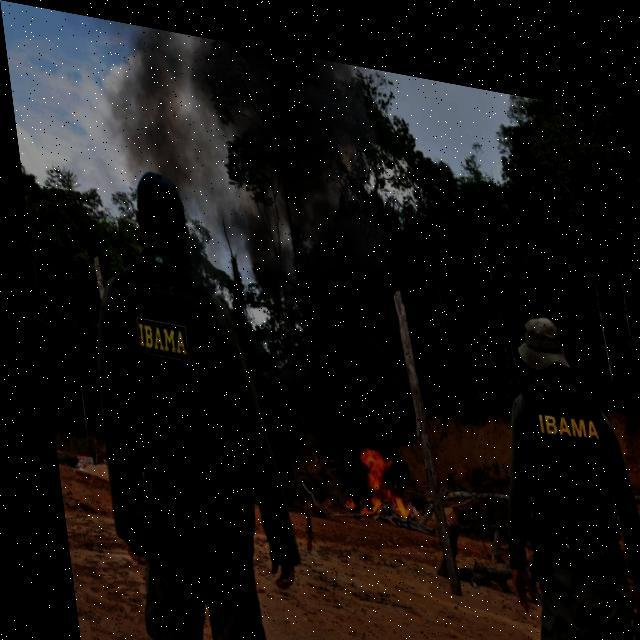Fire: (329, 430, 405, 510)
